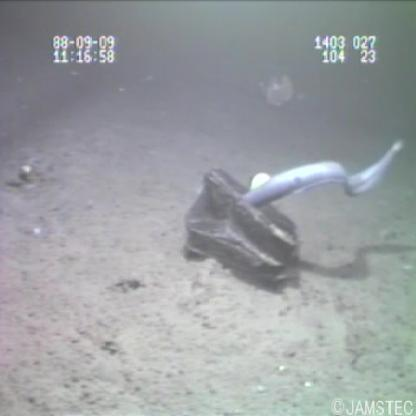Bio: (234, 135, 408, 214)
Rác: (180, 163, 302, 300)
